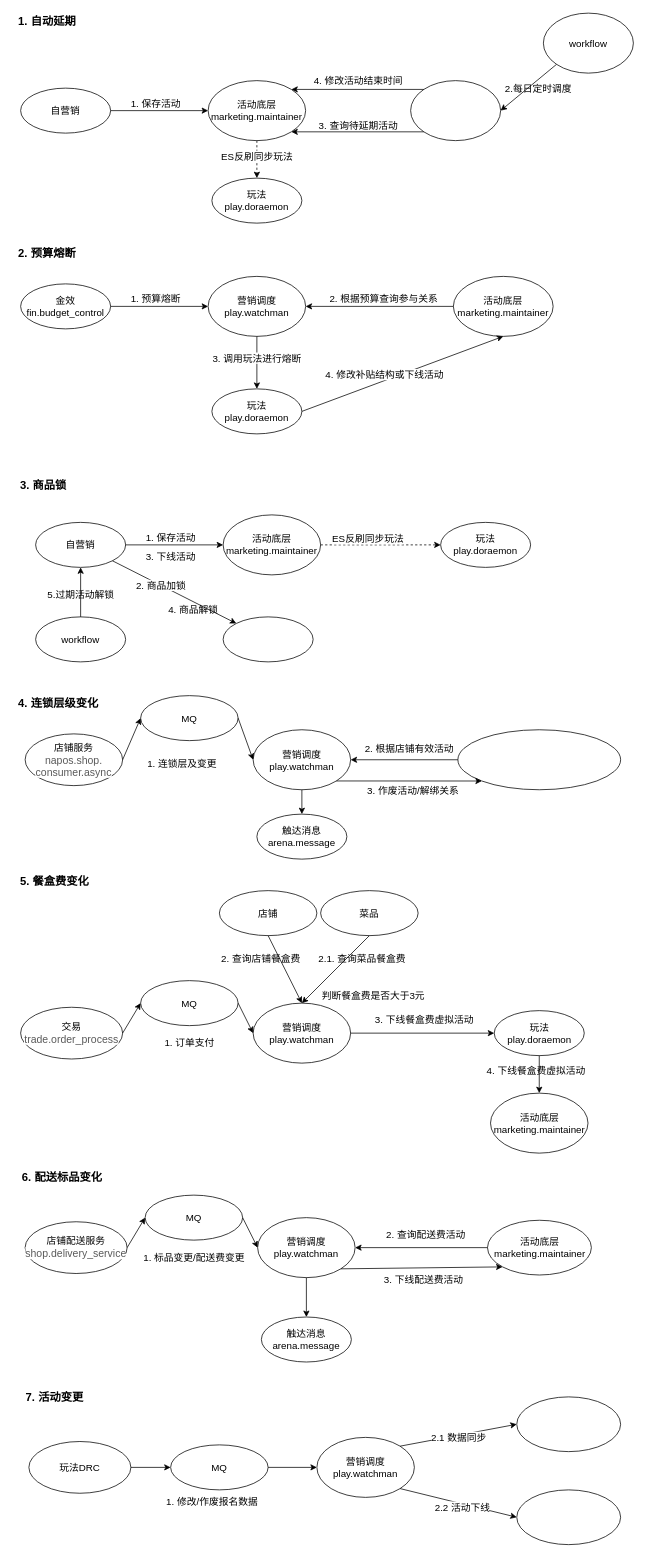
Image size: 647x1558. Some labels were removed from this diagram. The box of each missing label's shape, as (x1, y1, x2, y2) in pixels:
BD营销 play.valyria: (516, 1396, 621, 1452)
券底层 marketing.coupon_maintainer: (457, 729, 621, 790)
商品: (222, 616, 313, 662)
招商 play.zelda: (516, 1489, 621, 1545)
营销调度服务 play.watchman: (410, 80, 501, 141)
